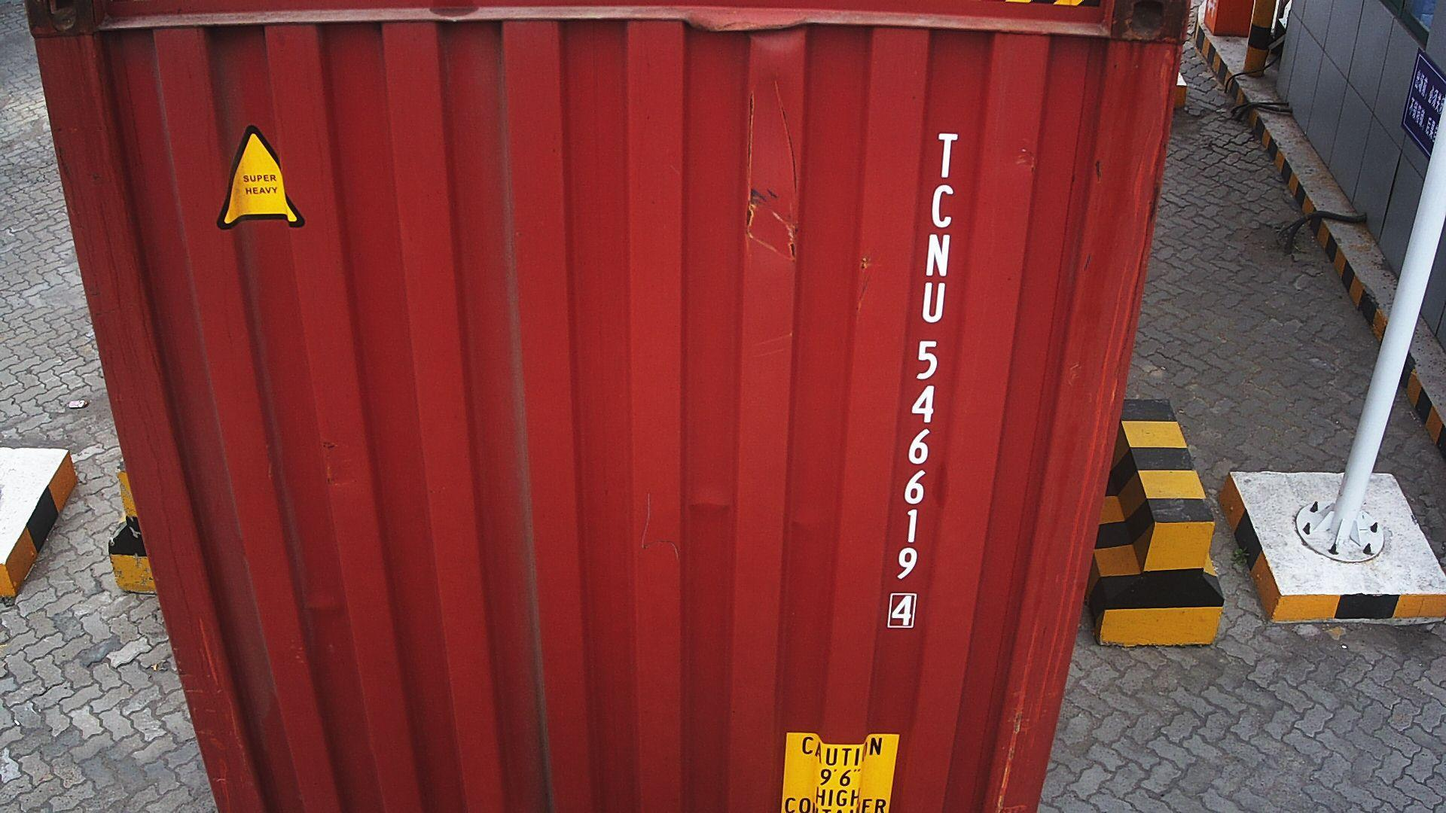container-numbers: (883, 127, 966, 635)
